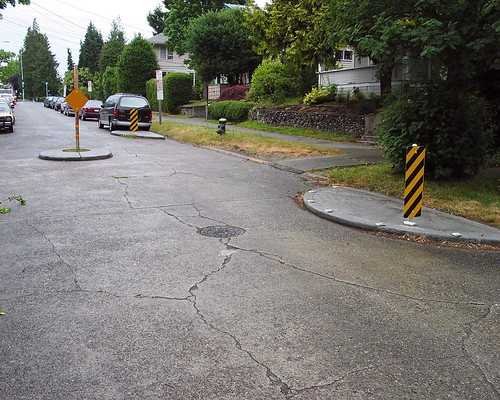building: (308, 1, 418, 128), (146, 21, 215, 111)
street: (6, 119, 500, 400)
tree: (337, 1, 500, 177), (183, 1, 282, 85), (259, 1, 341, 92), (117, 33, 162, 112), (96, 25, 136, 99), (22, 21, 59, 99), (76, 23, 109, 92)
